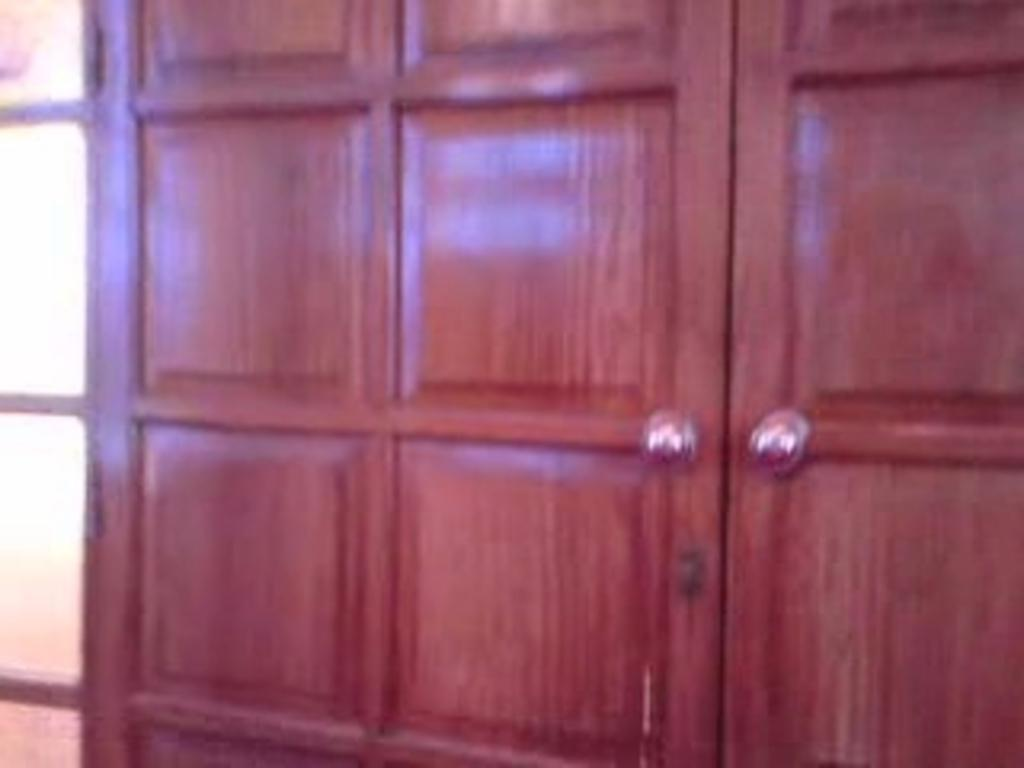door: (120, 12, 703, 749), (734, 30, 1016, 768)
handle: (750, 410, 800, 479), (646, 408, 696, 474)
